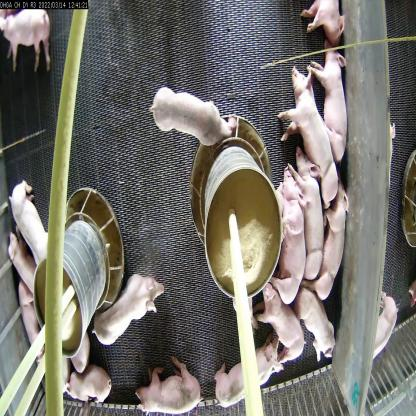Pig: (271, 57, 342, 201), (150, 82, 242, 155), (308, 44, 356, 164), (92, 272, 166, 342), (250, 270, 307, 357), (0, 0, 53, 91), (215, 339, 277, 415), (295, 157, 332, 276), (272, 173, 302, 312), (6, 172, 47, 264), (132, 360, 200, 415), (310, 177, 343, 284), (59, 359, 122, 415), (294, 294, 335, 358), (304, 0, 349, 49), (4, 229, 36, 291)
